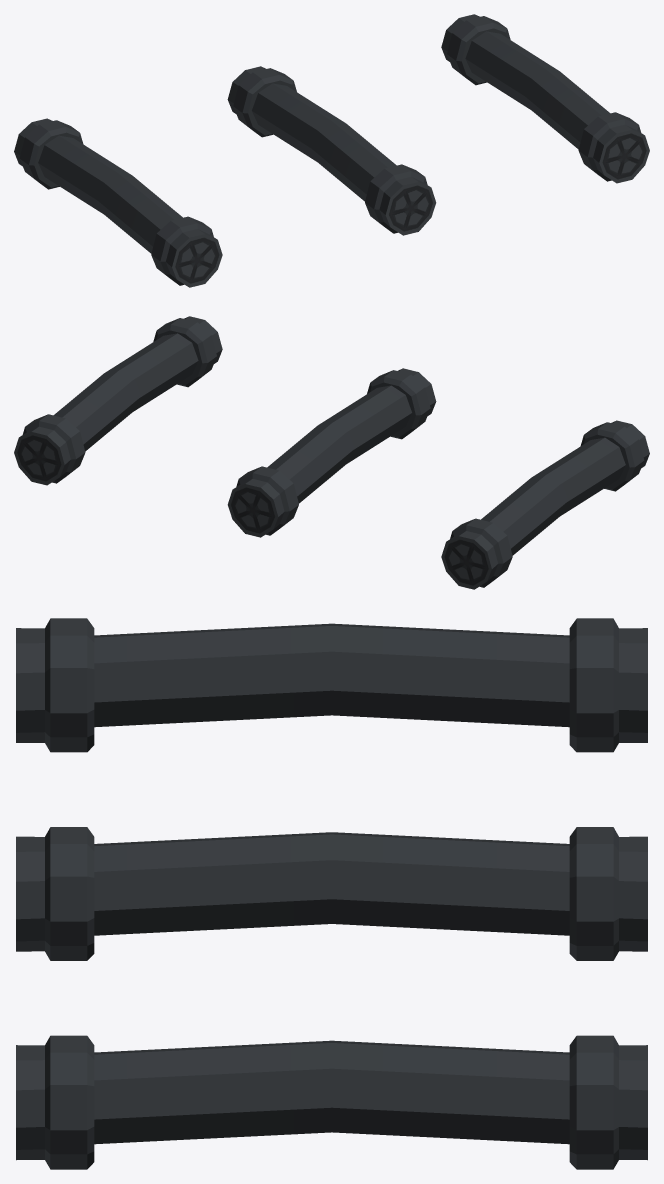
File: SM_Bld_Ornament_07.fbx
3 views of the same model, one above another, from view 1: azimuth 30°, elevation 25°; view 2: azimuth 150°, elevation 25°; view 3: azimuth 270°, elevation 25° (orthographic). The views are drawn at different scales.
Visible parts, largest first — view 1: SM_Bld_Ornament_07; view 2: SM_Bld_Ornament_07; view 3: SM_Bld_Ornament_07.
Part boxes in pixels (<box>): SM_Bld_Ornament_07: <box>14,14,649,287</box>; SM_Bld_Ornament_07: <box>14,316,649,589</box>; SM_Bld_Ornament_07: <box>16,618,647,1169</box>.
Size of the model in its own units: 188 by 21.9 by 106.
